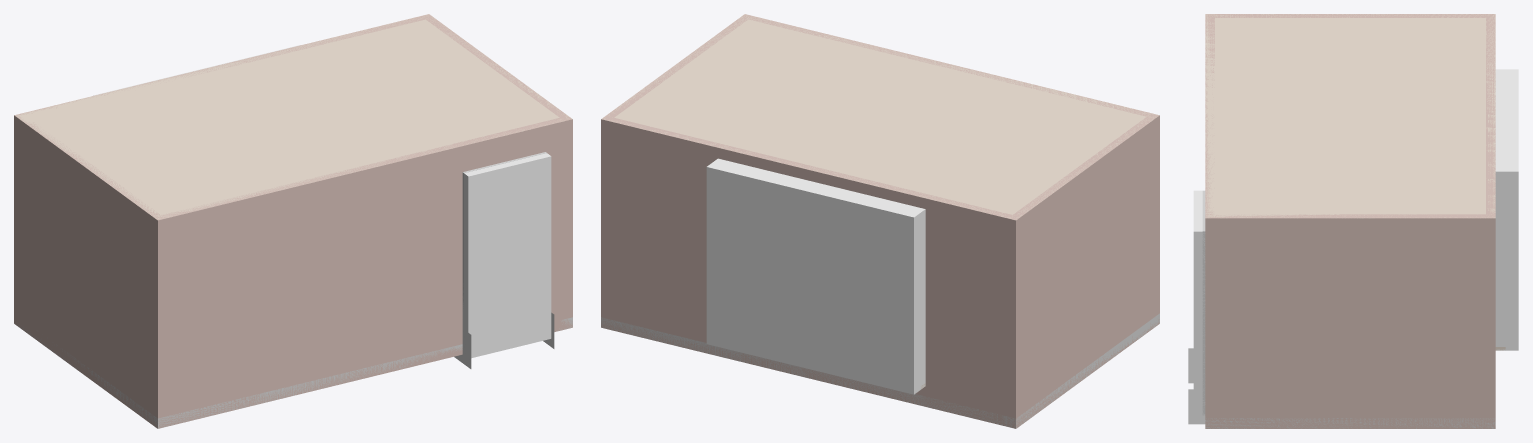
Rendered from school.fbx.
3 renders of one model, left to right at view 1: azimuth 30°, elevation 25°; view 2: azimuth 150°, elevation 25°; view 3: azimuth 270°, elevation 25°, orthographic.
Parts seen in each view (by area): view 1: Room, Ceiling, CTRL_Hole, Baseboard; view 2: Room, Ceiling, CTRL_Hole.001, Baseboard; view 3: Room, Ceiling, CTRL_Hole.001, CTRL_Hole, Baseboard, DoorFrame, CTRL_Baseboard.
Boxes of the visible parts, x1,y1,x2,y2 form: Room: [14, 14, 572, 428]; Ceiling: [15, 14, 571, 219]; CTRL_Hole: [462, 153, 551, 358]; Baseboard: [18, 317, 572, 428]; Room: [601, 14, 1159, 428]; Ceiling: [602, 14, 1159, 219]; CTRL_Hole.001: [706, 158, 925, 394]; Baseboard: [601, 313, 1159, 428]; Room: [1205, 14, 1495, 428]; Ceiling: [1205, 14, 1495, 218]; CTRL_Hole.001: [1495, 69, 1518, 350]; CTRL_Hole: [1193, 190, 1205, 415]; Baseboard: [1205, 418, 1495, 428]; DoorFrame: [1202, 190, 1205, 415]; CTRL_Baseboard: [1188, 348, 1205, 424].
Bounding box in the file's own units: 500 × 250 × 342.
